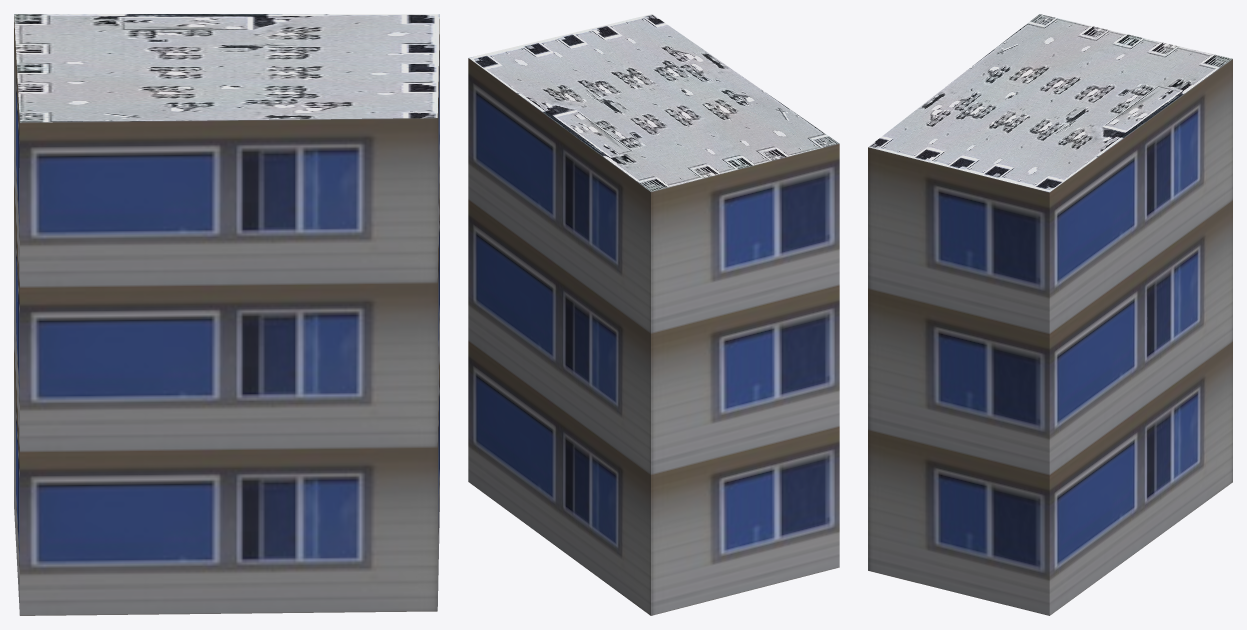
Rendered from ResTex__3997.fbx.
3 views of the same model, side by side, from view 1: azimuth 30°, elevation 25°; view 2: azimuth 150°, elevation 25°; view 3: azimuth 270°, elevation 25° (orthographic). The views are drawn at different scales.
Parts seen in each view (by area): view 1: CityEngineMaterial_23_m, CityEngineMaterial_8_m; view 2: CityEngineMaterial_23_m, CityEngineMaterial_8_m; view 3: CityEngineMaterial_23_m, CityEngineMaterial_8_m.
Part boxes in pixels (x1=…): CityEngineMaterial_23_m: x1=14, y1=16, x2=439, y2=615; CityEngineMaterial_8_m: x1=14, y1=14, x2=439, y2=122; CityEngineMaterial_23_m: x1=468, y1=58, x2=839, y2=615; CityEngineMaterial_8_m: x1=469, y1=14, x2=839, y2=191; CityEngineMaterial_23_m: x1=868, y1=59, x2=1232, y2=615; CityEngineMaterial_8_m: x1=868, y1=14, x2=1232, y2=192.
Size of the model in its own units: 8.13 by 9 by 7.02.
Materials: 2 (2 with a texture image).
